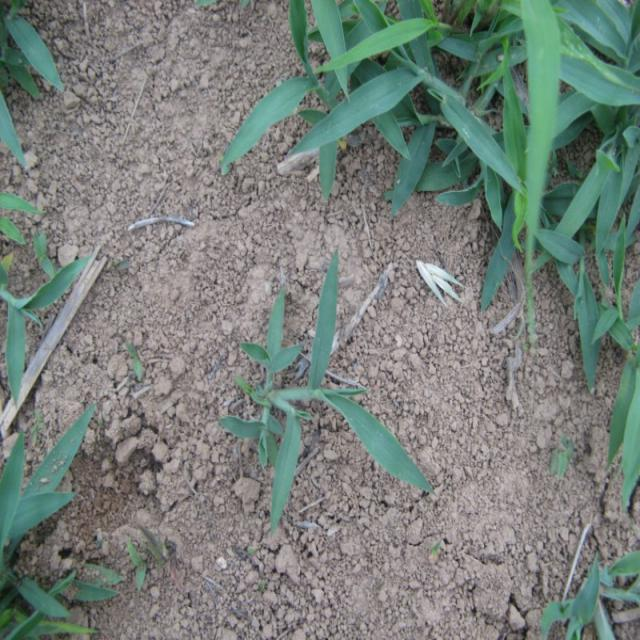bg: (218, 247, 435, 519)
